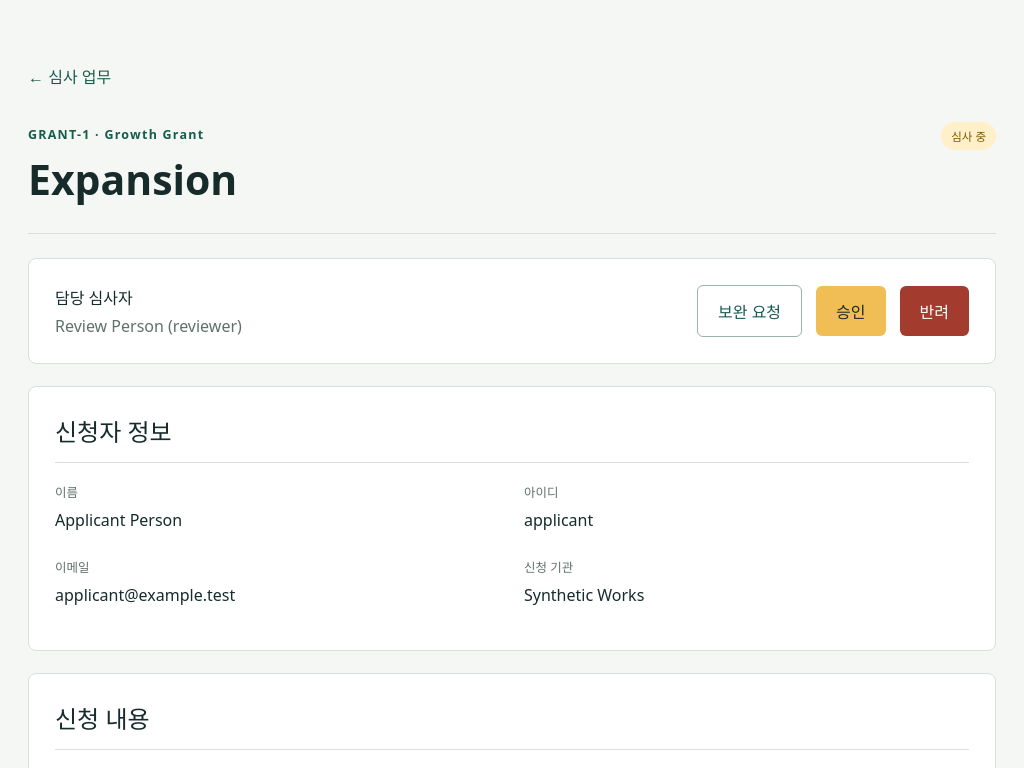
Test: ReviewerApplicationPage › offers queue recovery when a 409 decision becomes stale or unavailable
This screenshot has width=1024, height=768.
What coordinates should you click on to do the following:
click the button "승인"
I would click on:
 (851, 311)
Its box is [816,286,886,336].
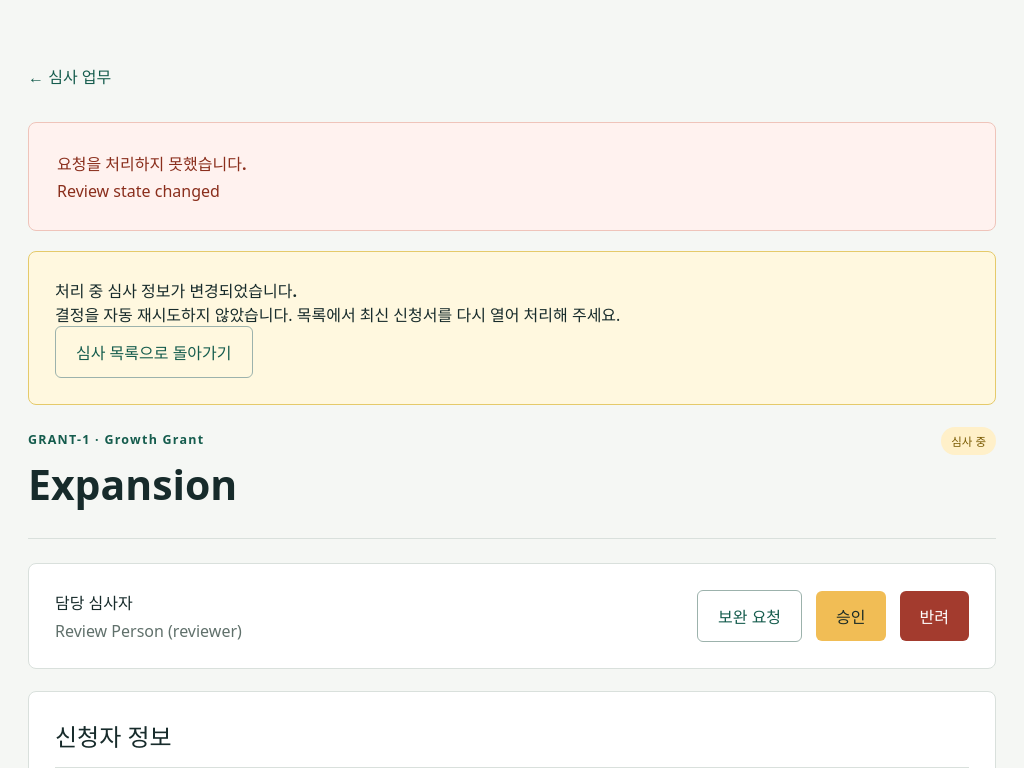
Now the text "처리 중 심사 정보가 변경되었습니다." is shown, box [55,278,297,302]
Now the link "심사 목록으로 돌아가기" is shown, box [55,326,252,378]
